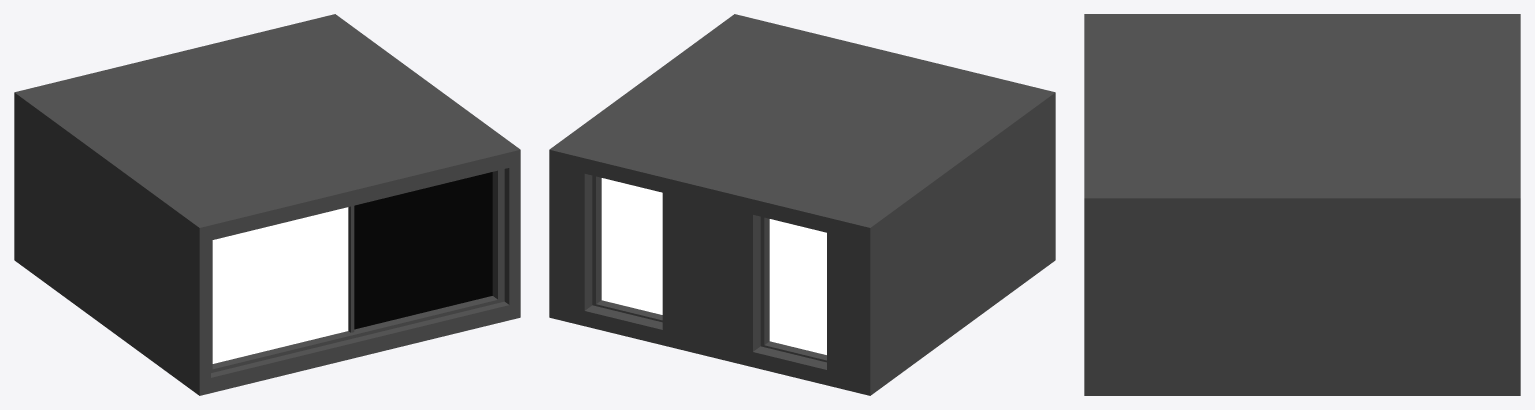
The model's file is immeuble5Milieu2.fbx.
3 renders of one model, left to right at view 1: azimuth 30°, elevation 25°; view 2: azimuth 150°, elevation 25°; view 3: azimuth 270°, elevation 25°, orthographic. The views are drawn at different scales.
Parts seen in each view (by area): view 1: Cube.013; view 2: Cube.013; view 3: Cube.013.
Boxes of the visible parts, x1,y1,x2,y2 form: Cube.013: (14, 14, 520, 395); Cube.013: (549, 14, 1055, 395); Cube.013: (1084, 14, 1520, 395).
Bounding box in the file's own units: 2000 × 1000 × 2000.
